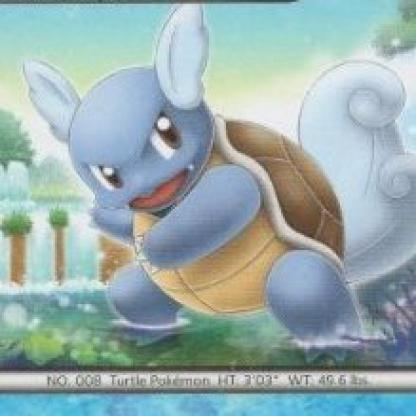Wartortle: (4, 23, 416, 361)
